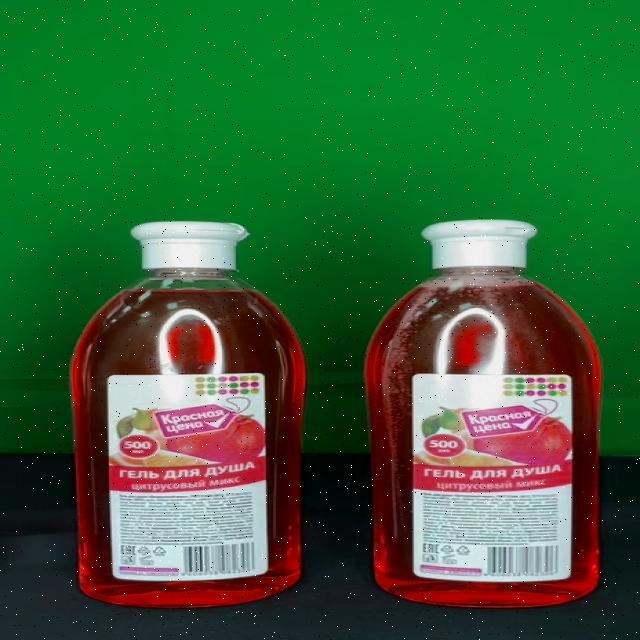Bottle: (364, 218, 602, 606), (69, 222, 306, 606)
Cap: (130, 222, 250, 270), (420, 220, 537, 267)
